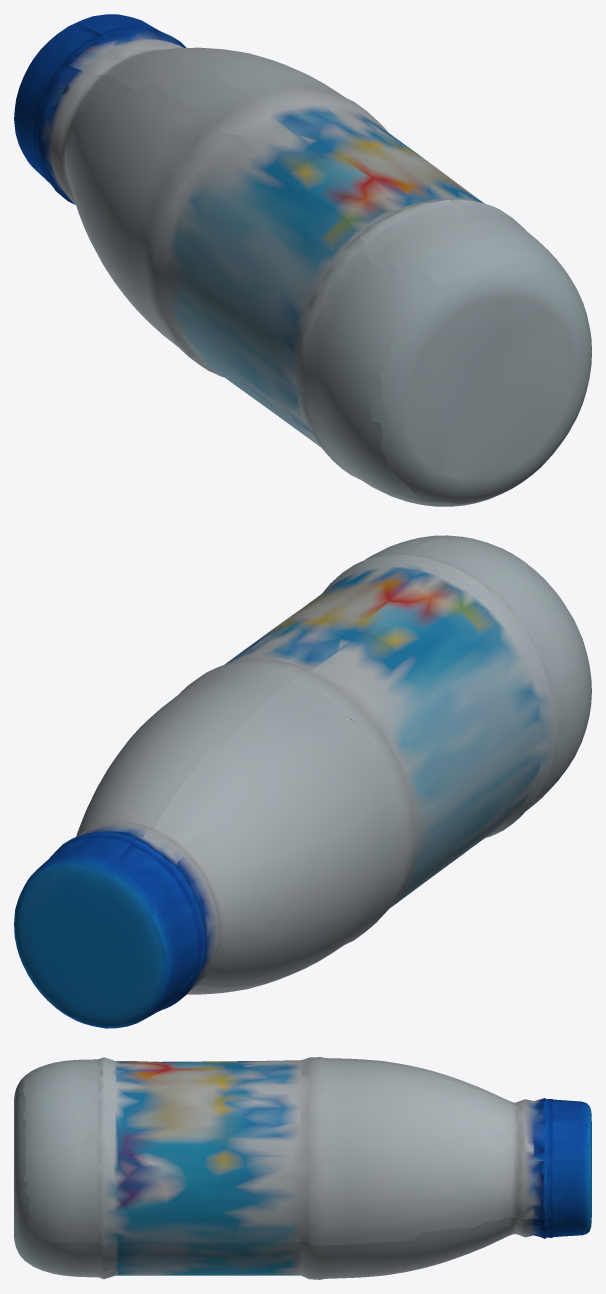
Rendered from milk.obj.
3 renders of one model, top to bottom at view 1: azimuth 30°, elevation 25°; view 2: azimuth 150°, elevation 25°; view 3: azimuth 270°, elevation 25°, orthographic. The views are drawn at different scales.
Size of the model in its own units: 0.0941 by 0.0976 by 0.25.
